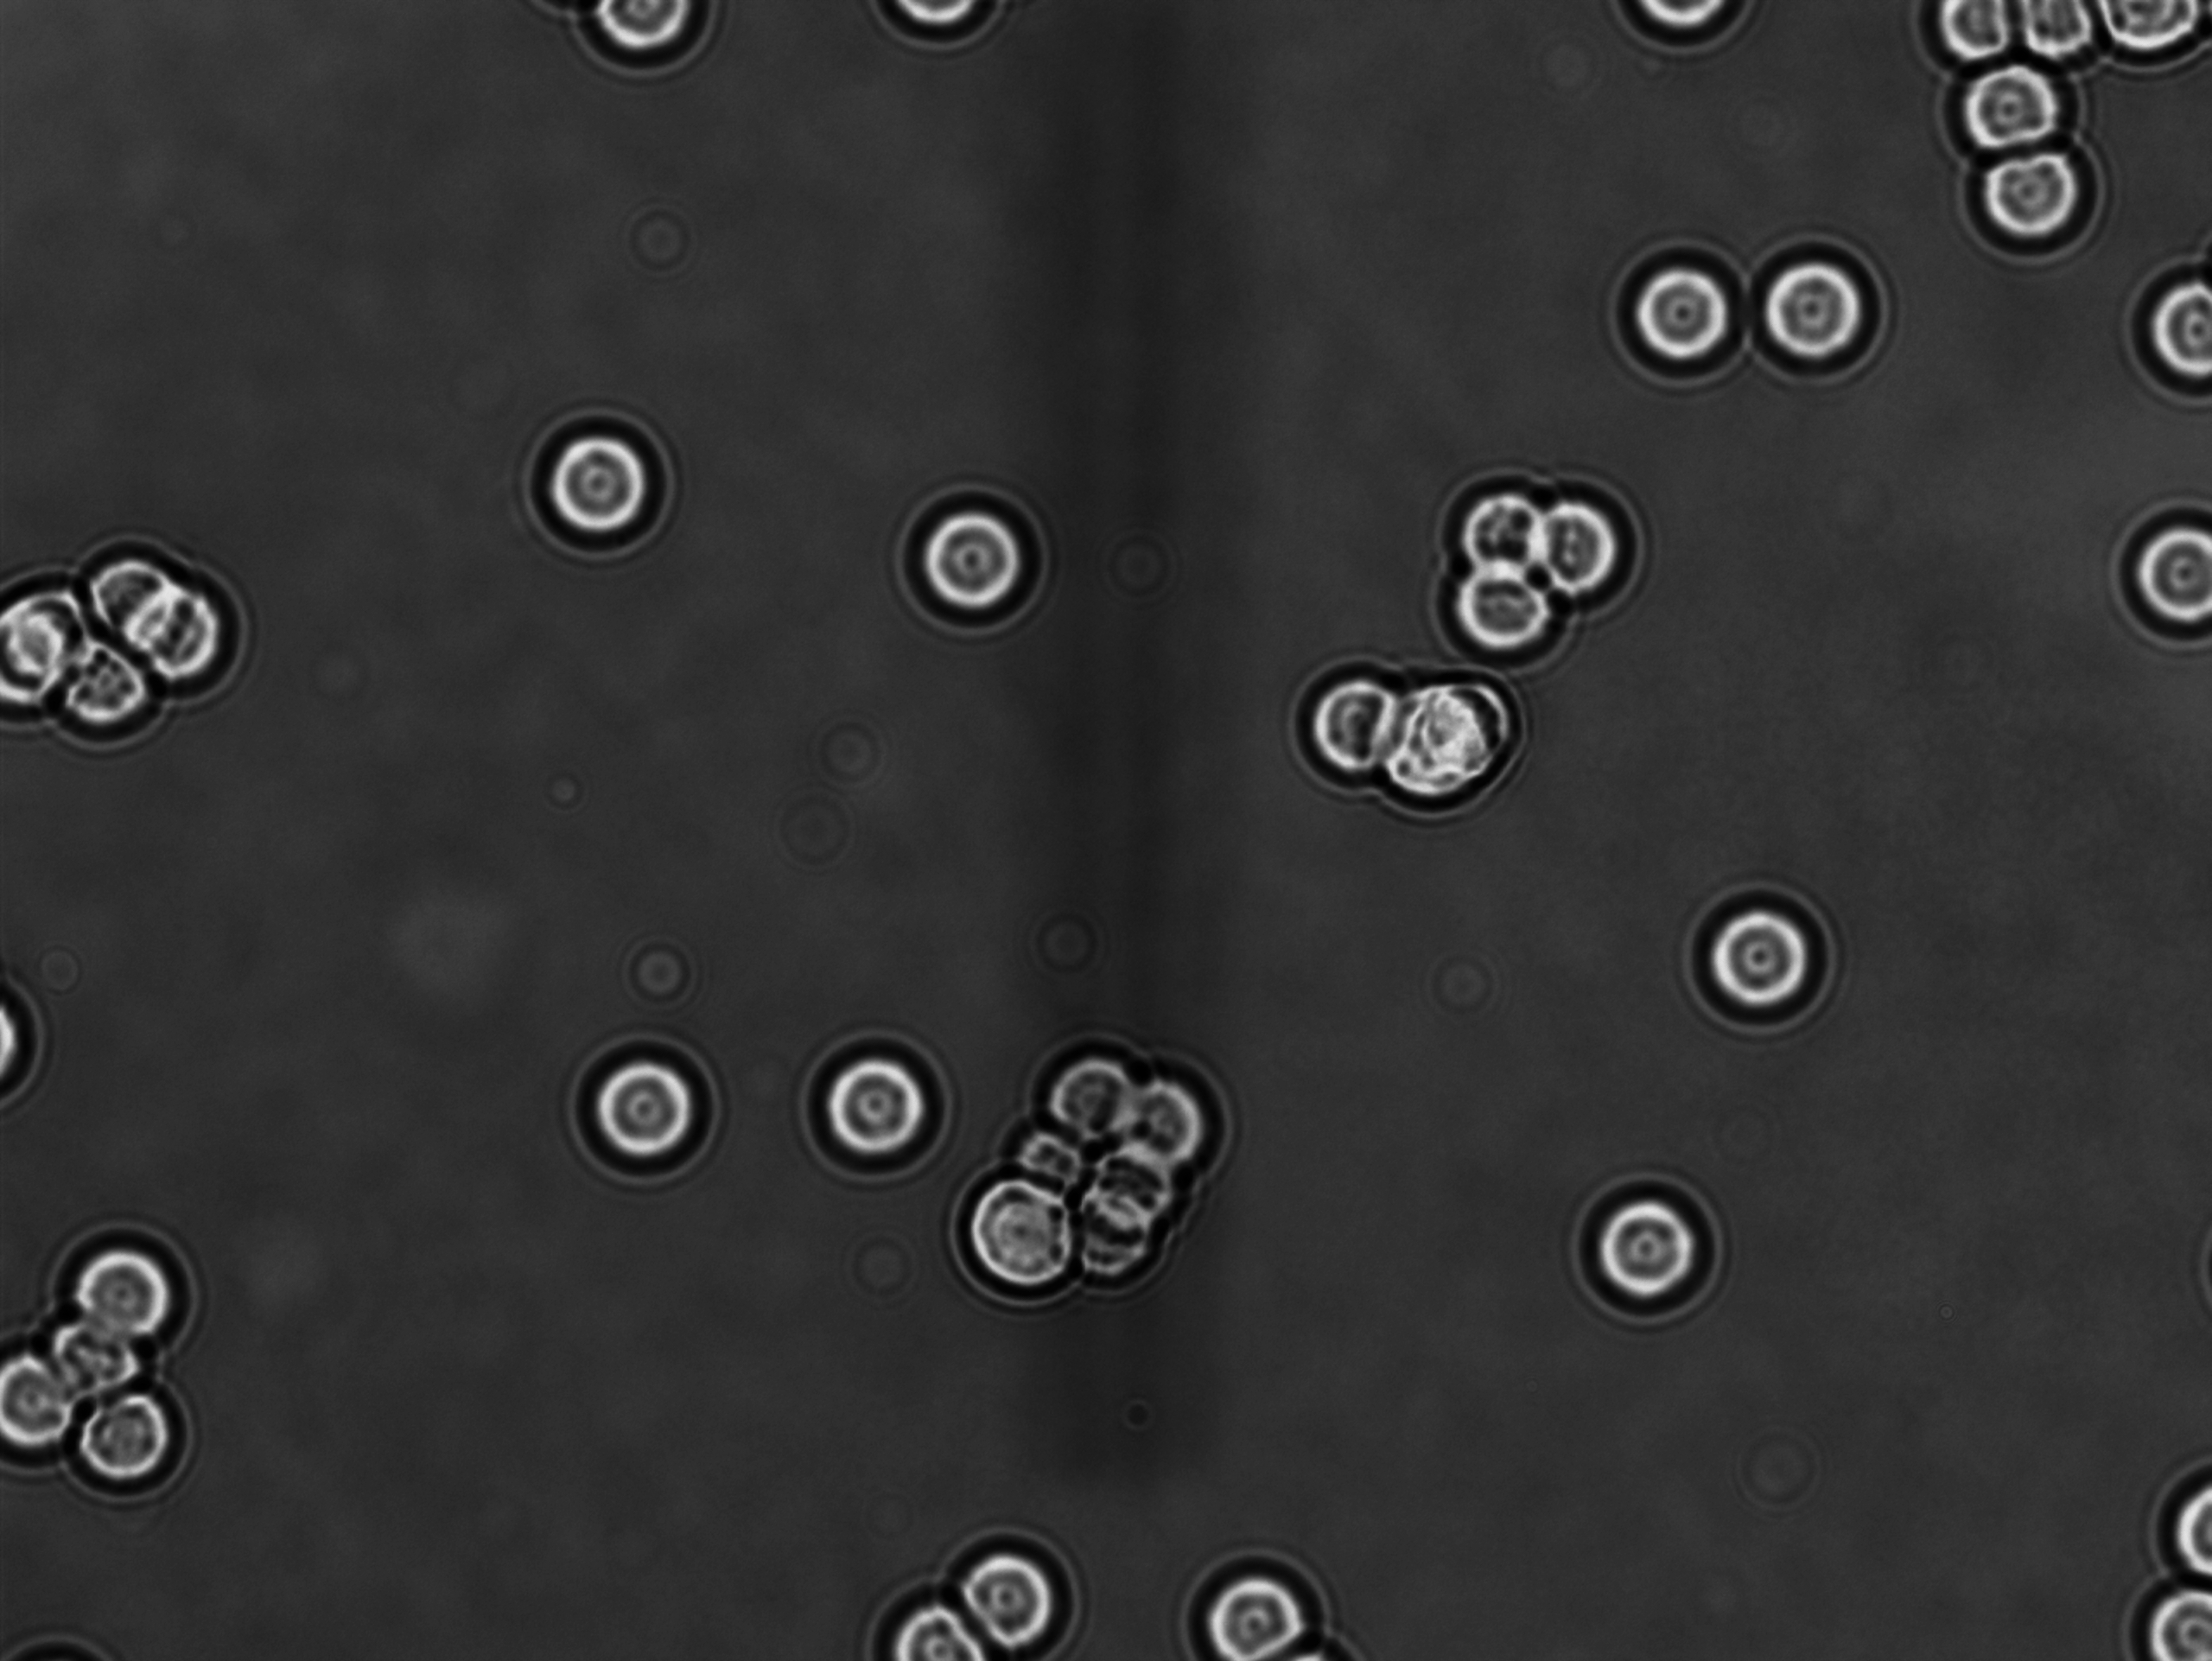depth:20: (1669, 867, 1858, 1054), (787, 1014, 963, 1190), (1605, 213, 1771, 400), (1567, 1160, 1738, 1335), (876, 473, 1052, 642), (565, 1015, 734, 1192), (515, 394, 680, 567), (1739, 229, 1905, 398), (926, 1516, 1101, 1661), (1165, 1527, 1340, 1661), (1516, 462, 1657, 616), (2111, 487, 2212, 665), (2128, 255, 2212, 408)
